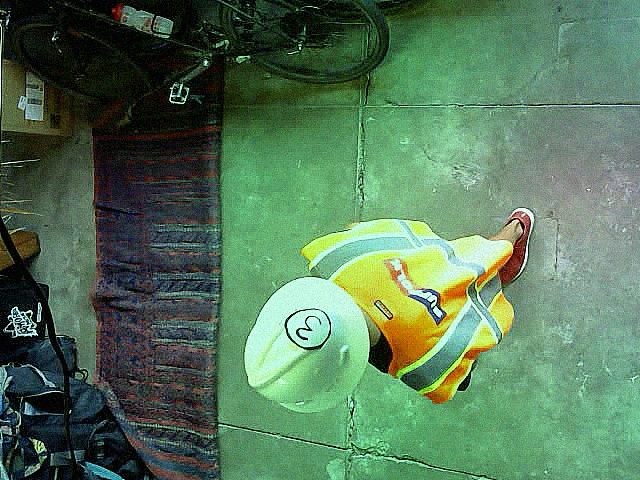three: (284, 307, 331, 349)
